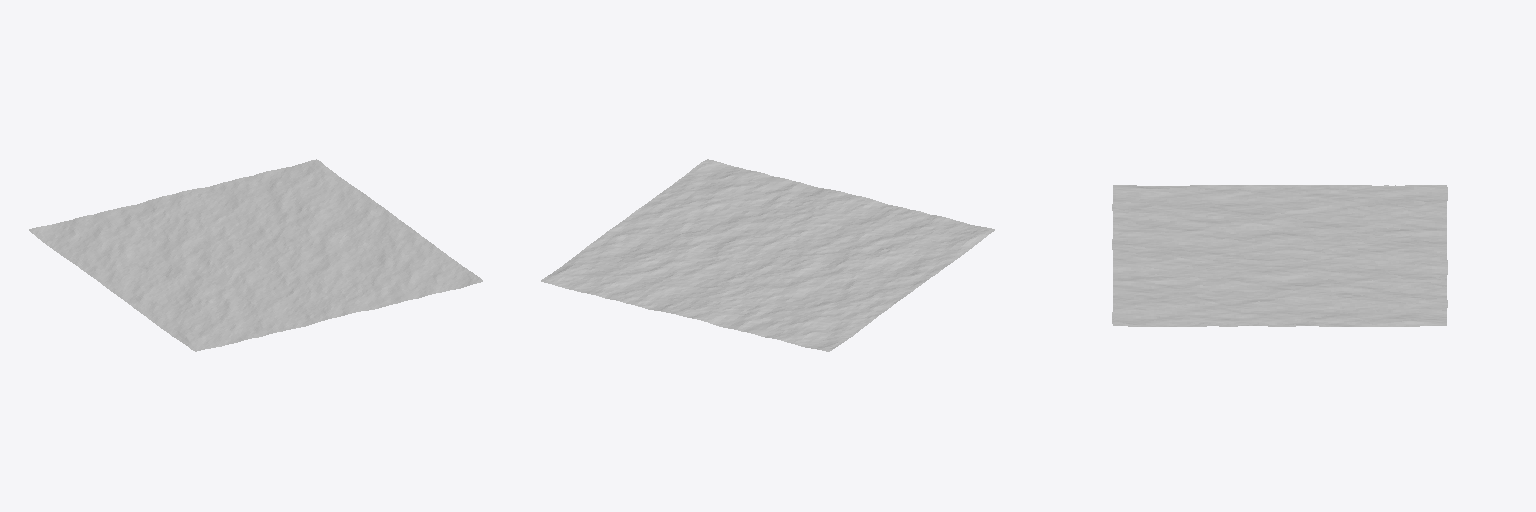
File: sea_000030.obj
The picture shows the model from 3 angles: view 1: azimuth 30°, elevation 25°; view 2: azimuth 150°, elevation 25°; view 3: azimuth 270°, elevation 25°; orthographic projection.
Parts seen in each view (by area): view 1: Plane; view 2: Plane; view 3: Plane.
Part boxes in pixels (x1,y1,x2,y2): Plane: (29, 159, 482, 351); Plane: (541, 159, 994, 351); Plane: (1112, 185, 1447, 326).
Bounding box in the file's own units: 201 × 1.66 × 201.